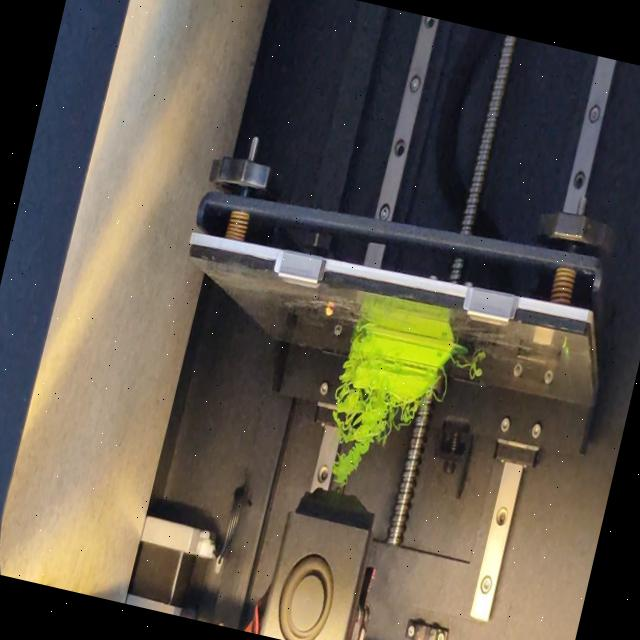spaghetti: (318, 381, 418, 502), (336, 316, 370, 384), (446, 351, 488, 380), (430, 369, 450, 402)
